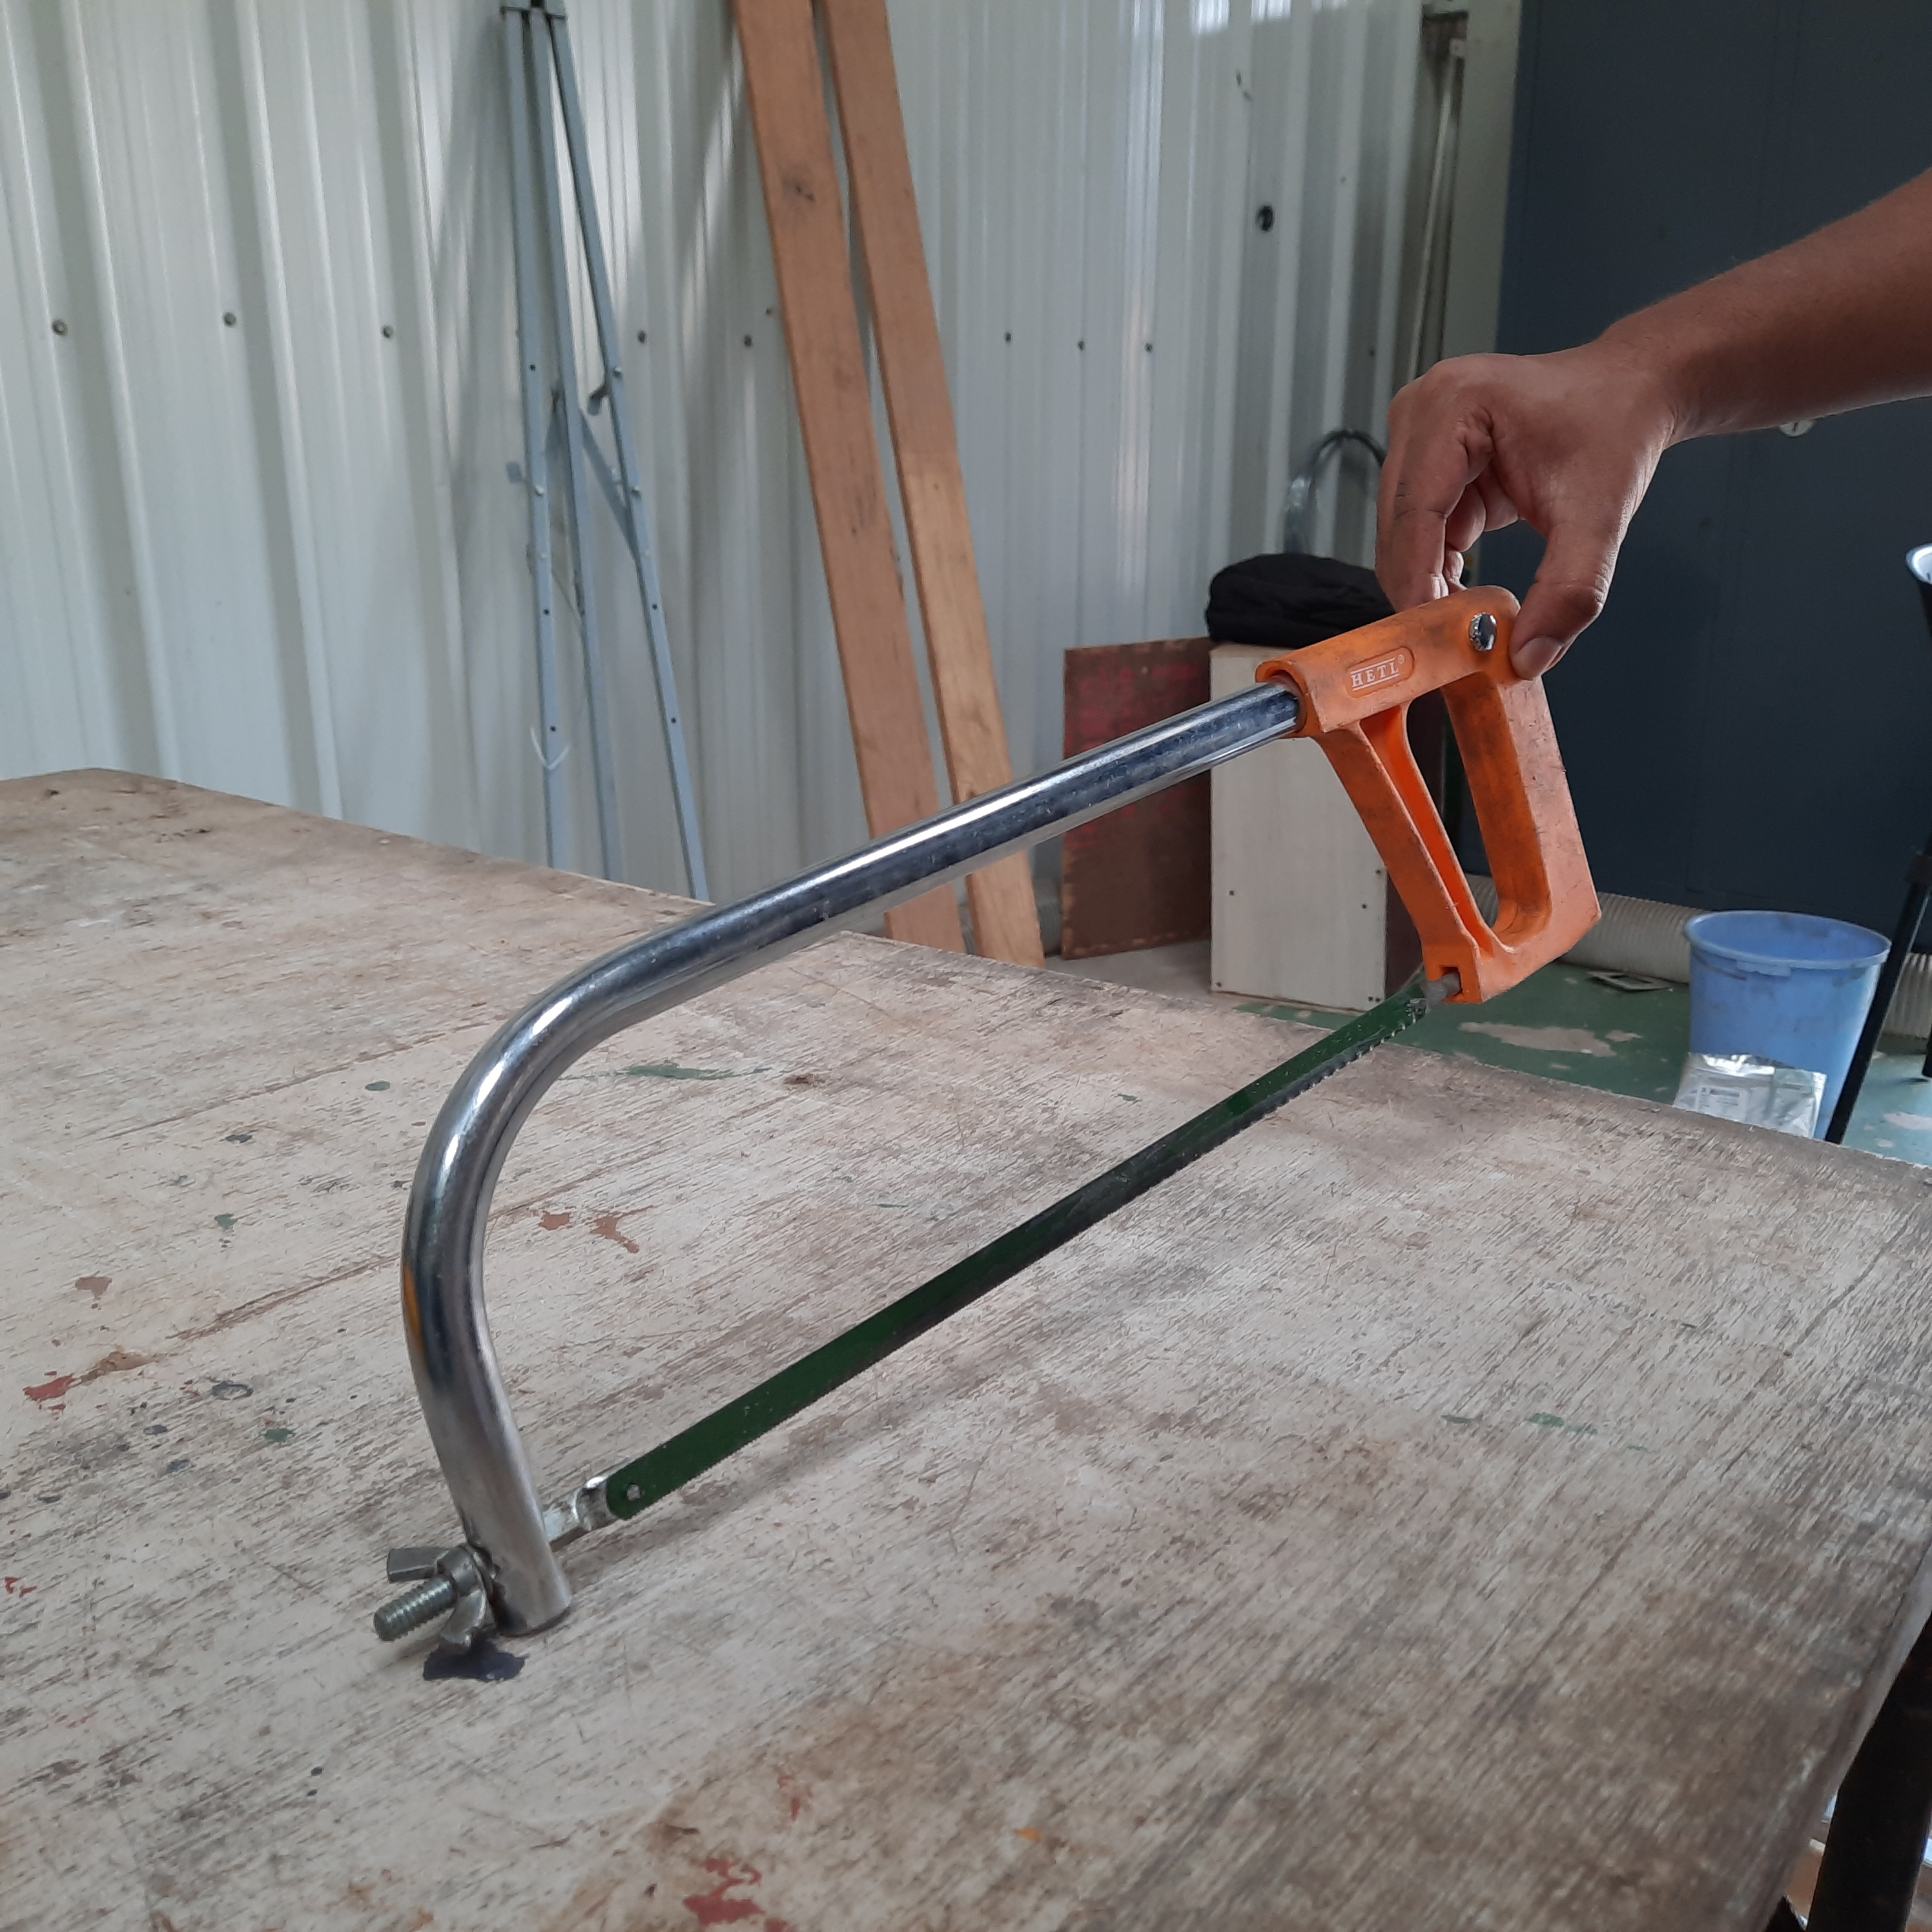Hexaframe: (280, 577, 1629, 1686)
